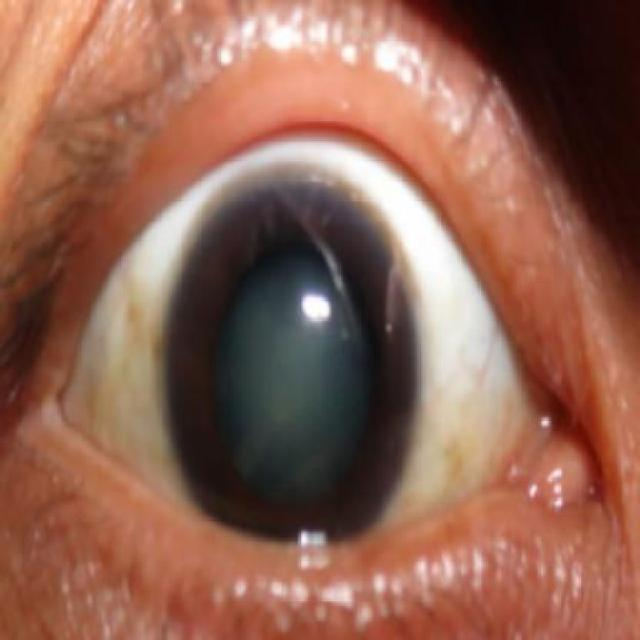Cataract: (162, 167, 418, 560)
